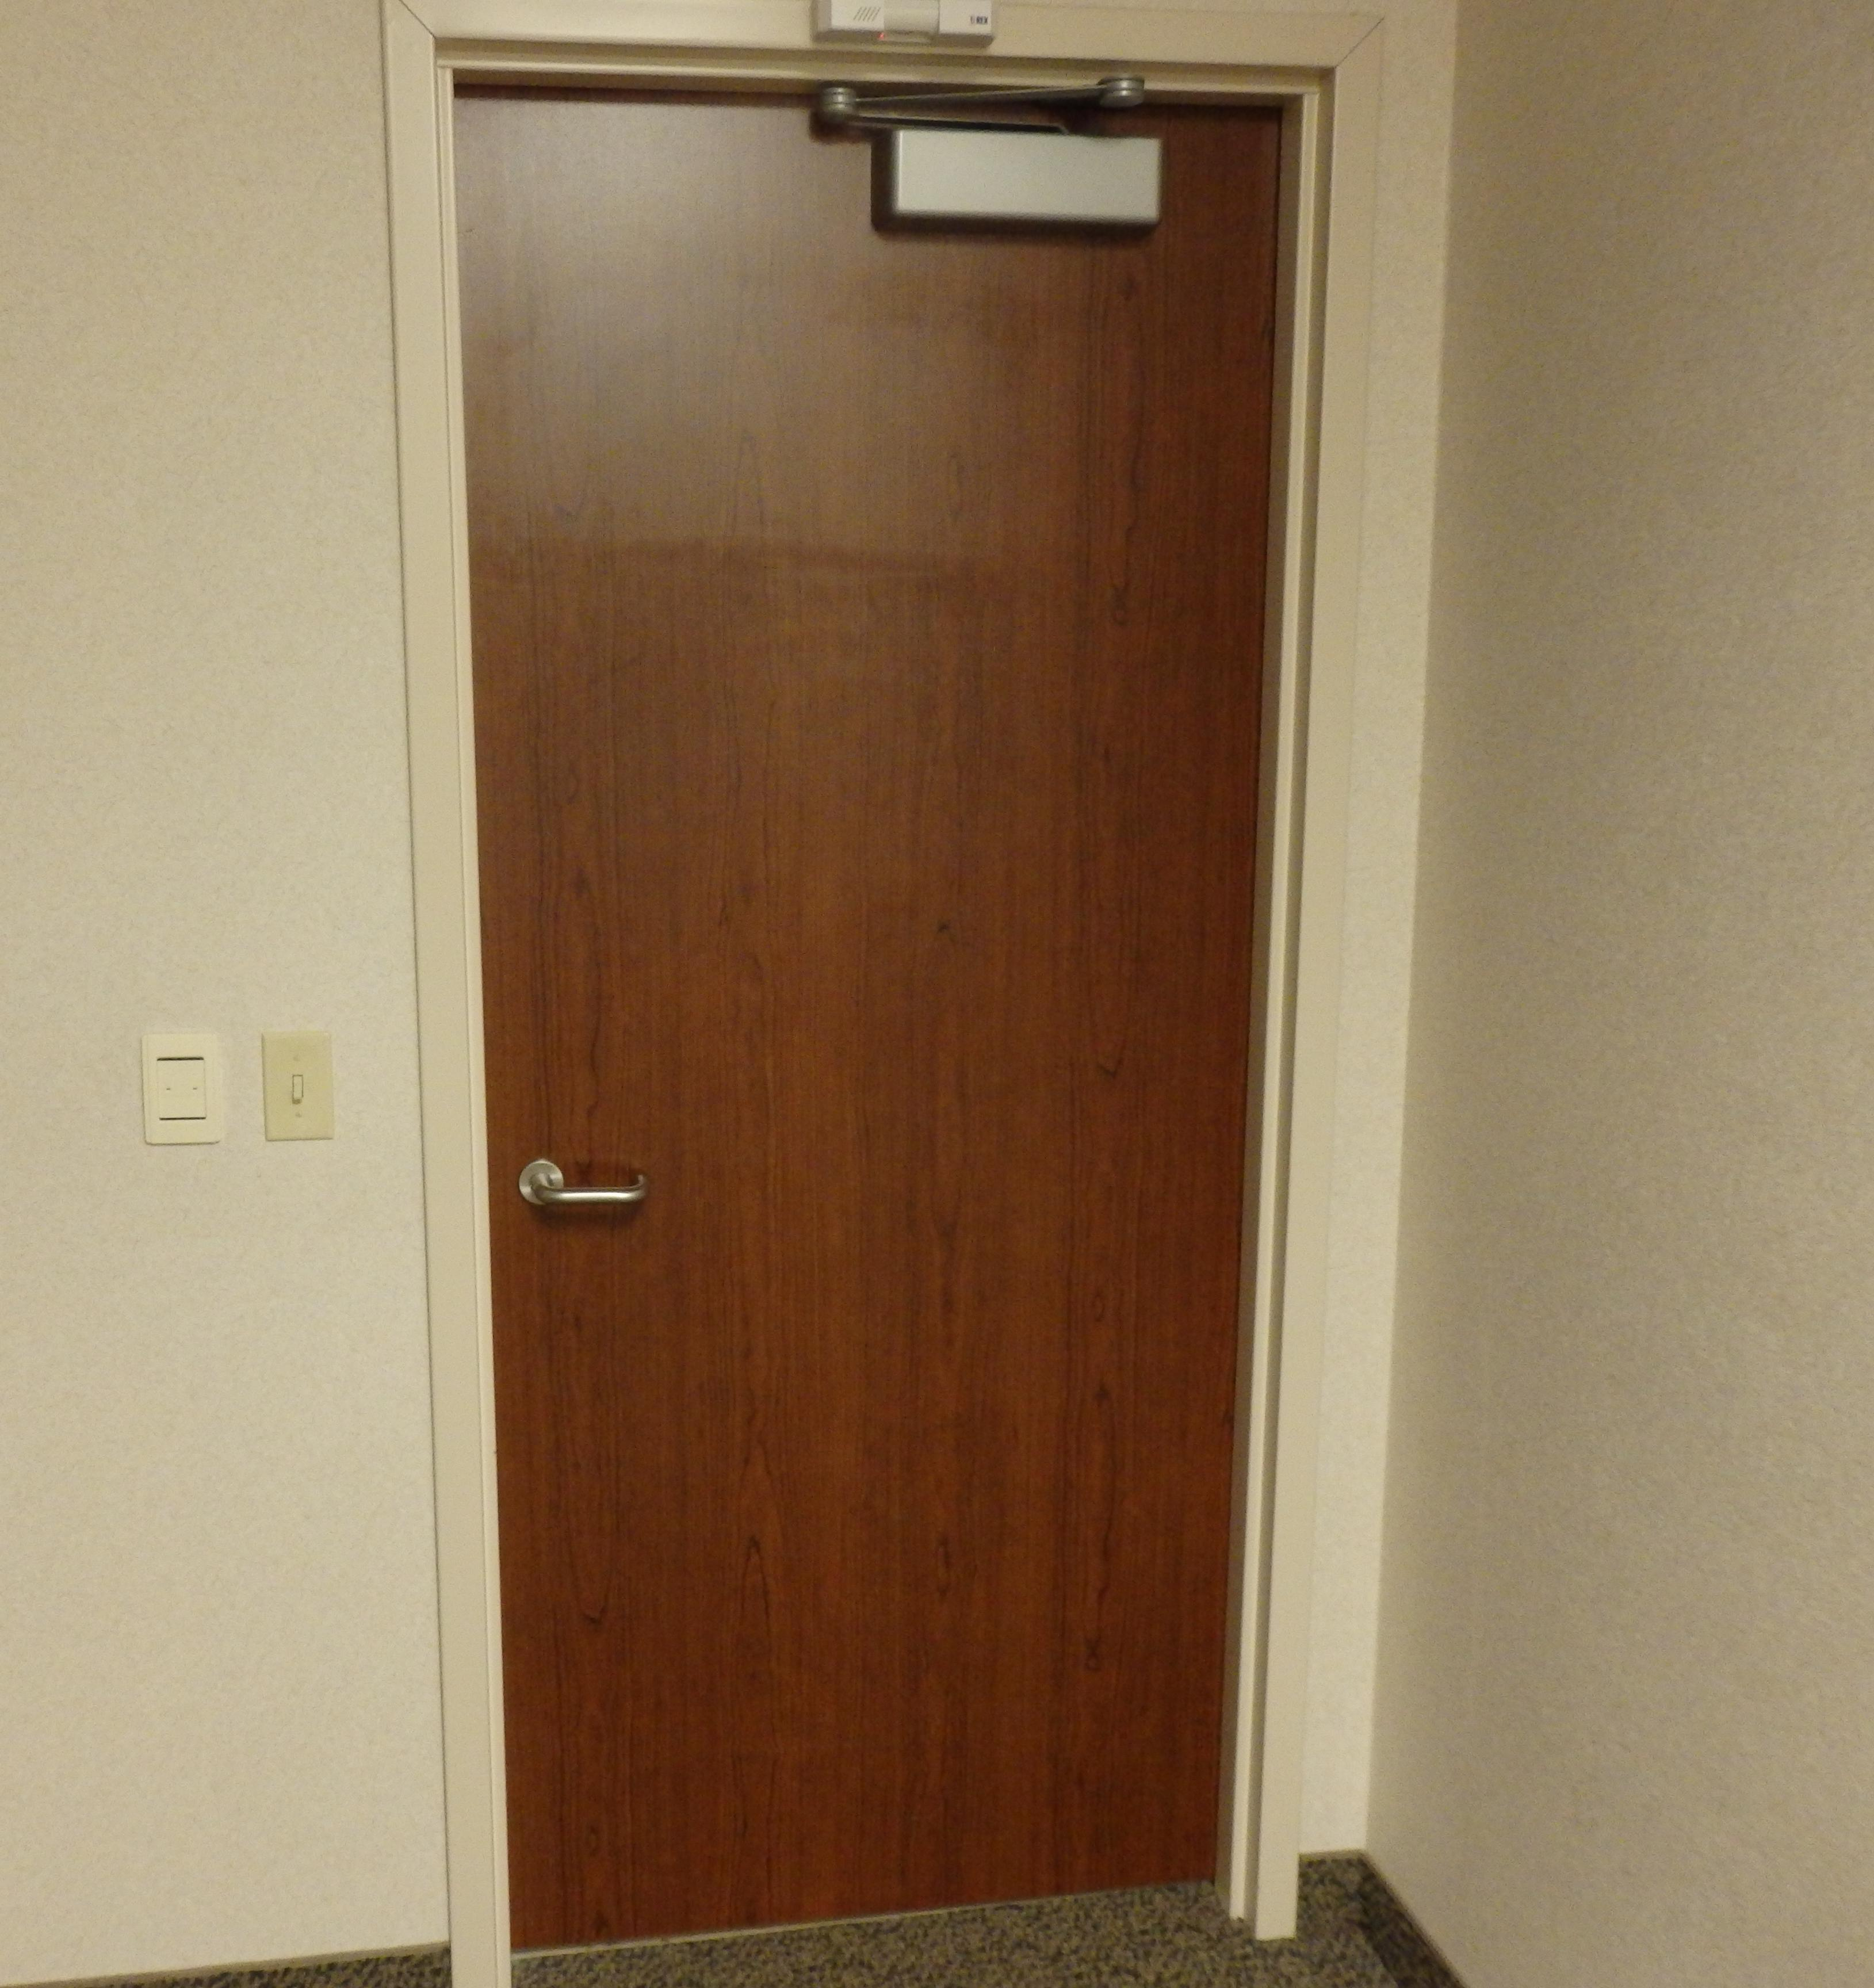door: (430, 46, 1295, 1988)
